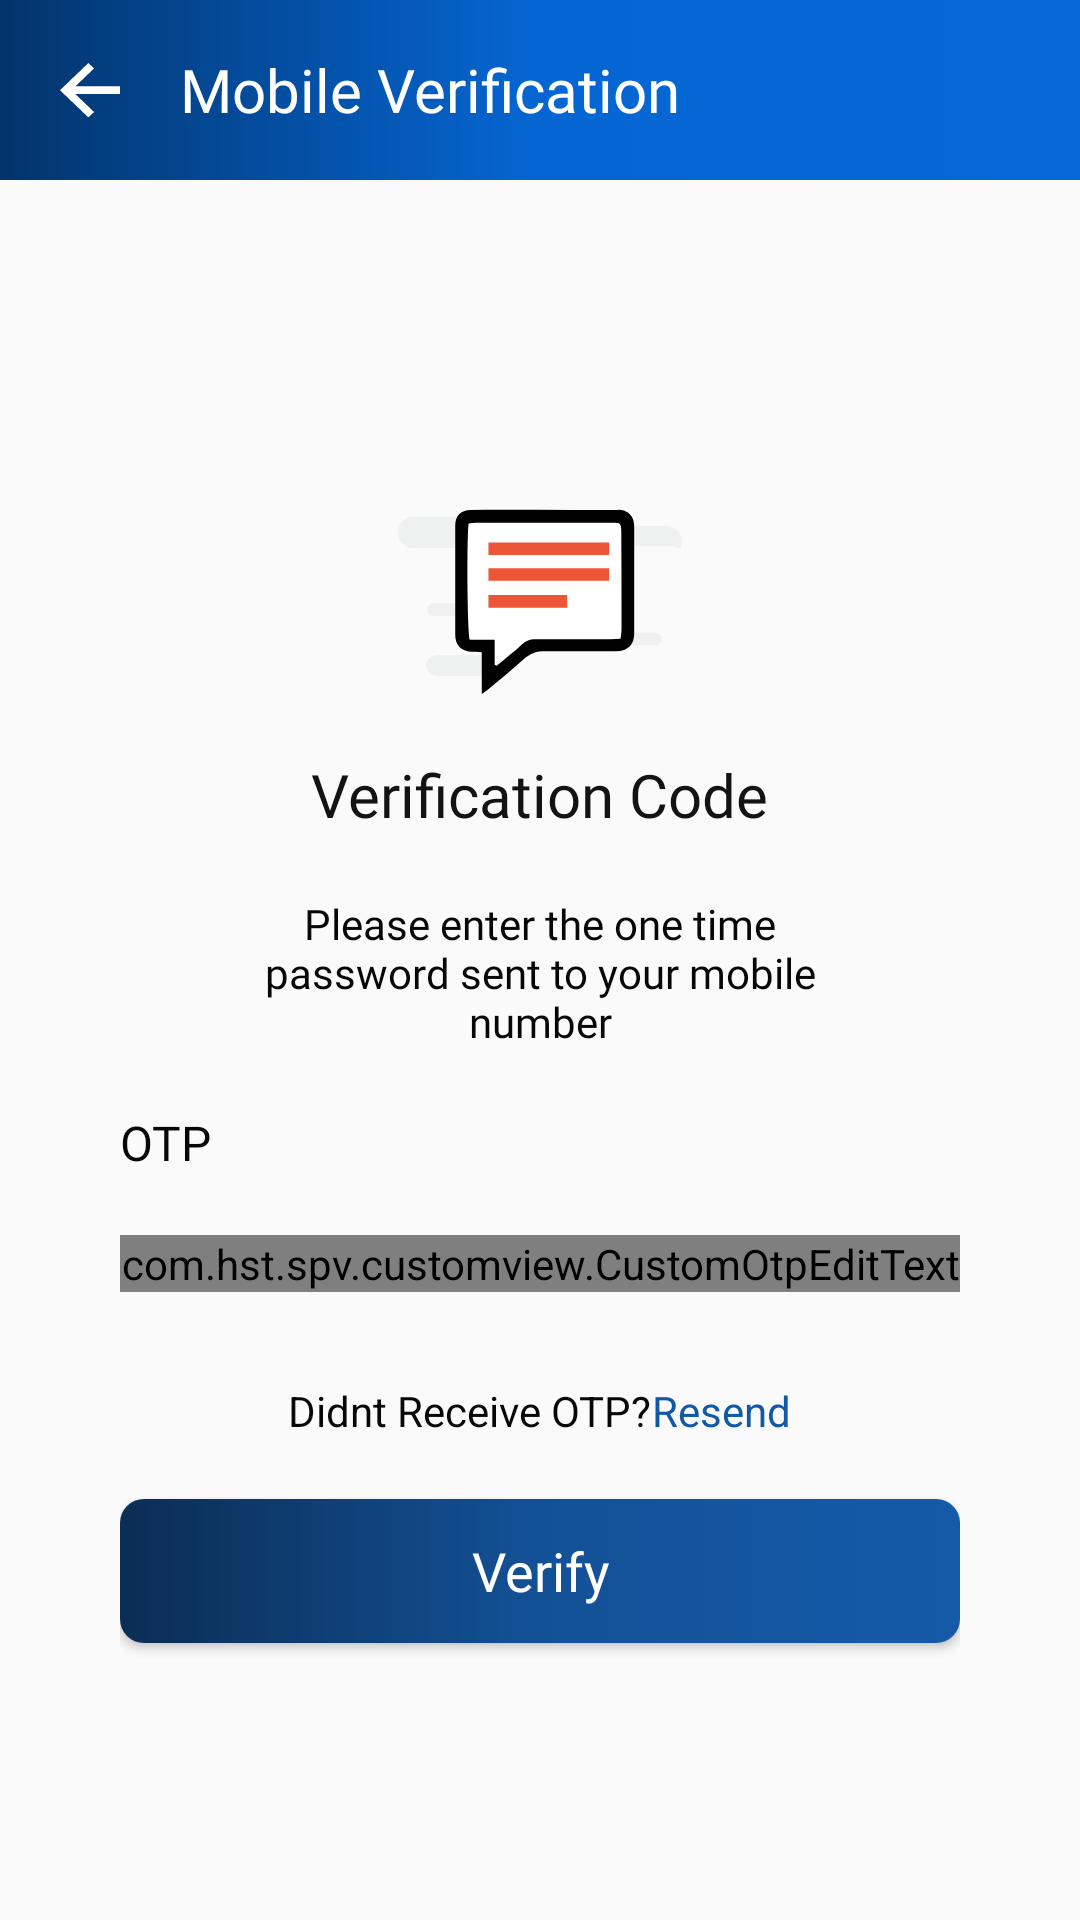

Point at icon controls on the screen. Image size 1080 × 1920, points as point (x, y).
left arrow: point (90, 90)
